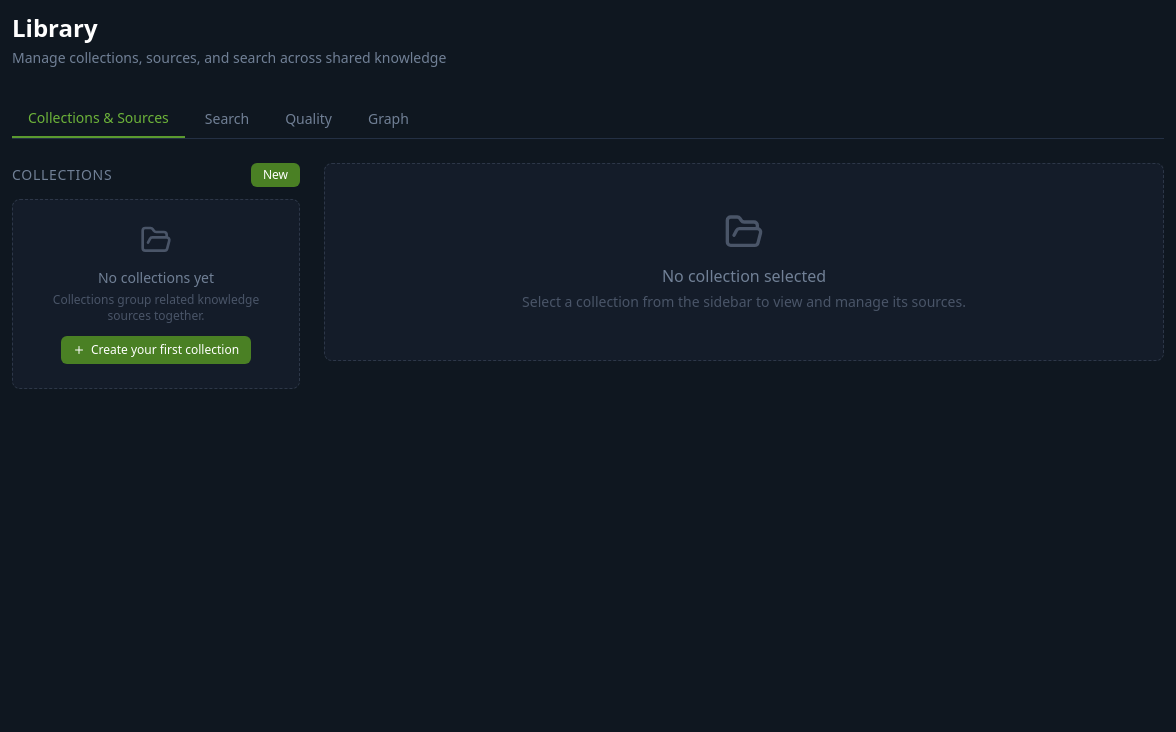
KnowledgeGraph — the live response contract › renders the corpus counts from the live response
What coordinates should you click on to do the following:
click the button "Graph"
I would click on:
 (388, 119)
Its box is x1=352 y1=100 x2=425 y2=138.
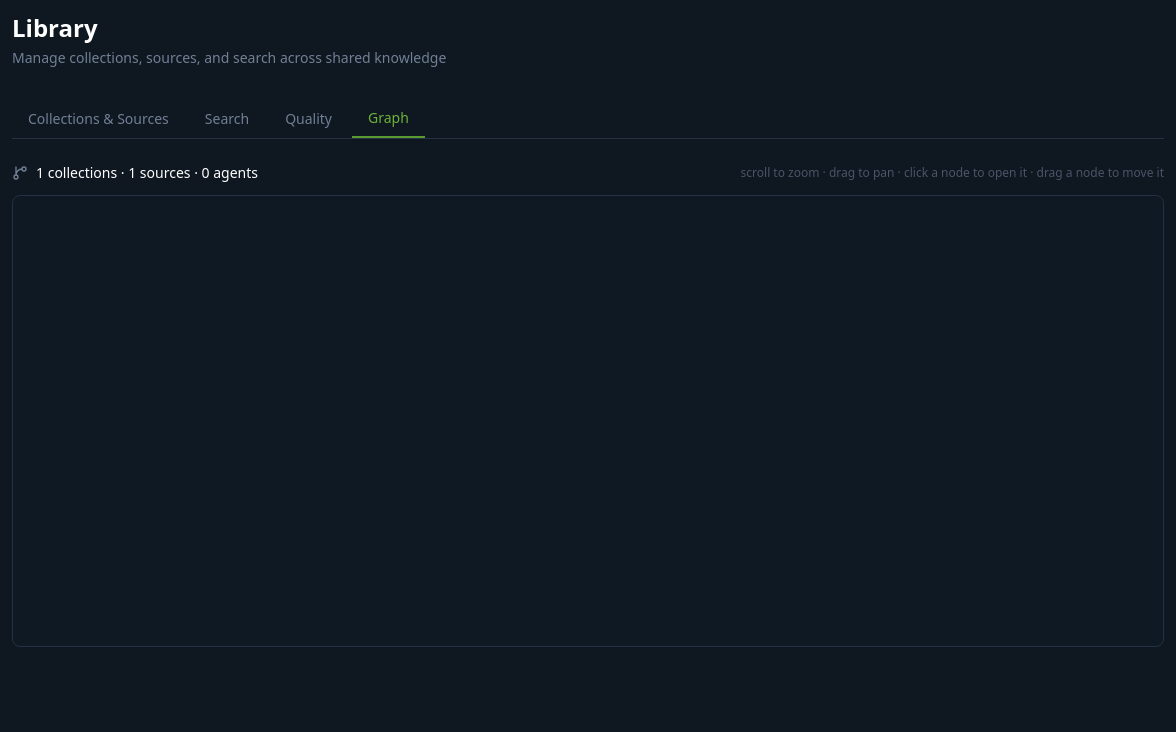
Now the text with test id "graph-counts" shows "1 collections", box x1=36 y1=163 x2=258 y2=183
Now the text with test id "graph-counts" shows "1 sources", box x1=36 y1=163 x2=258 y2=183
Now the text with test id "graph-counts" shows "0 agents", box x1=36 y1=163 x2=258 y2=183
